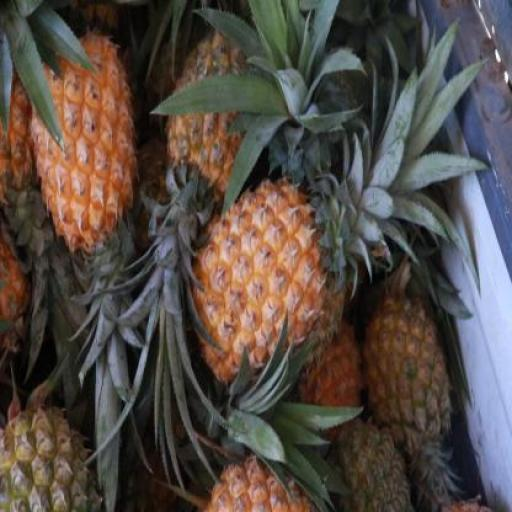------------------------------: (362, 286, 450, 459), (1, 404, 109, 512)
Pineapple - v8 v1: (186, 177, 335, 387), (25, 26, 137, 253)
